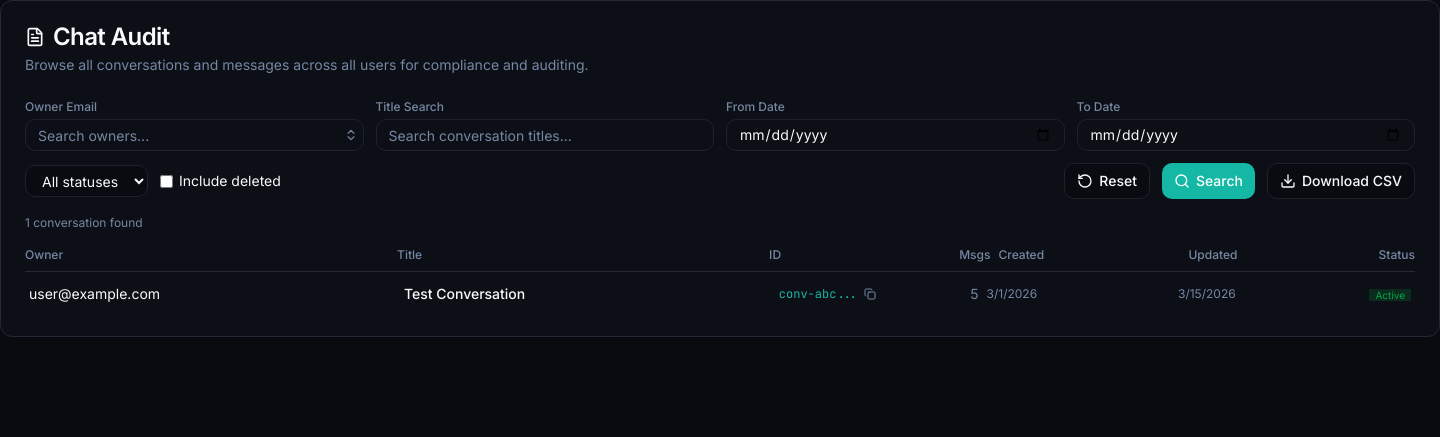
Test: AuditLogsTab › Reset clears results and shows empty state
This screenshot has width=1440, height=437.
Check: the text "Test Conversation" is shown, box [404,285,525,302]
Click the button "Reset". click: [1107, 181]
box: [1064,163,1150,199]
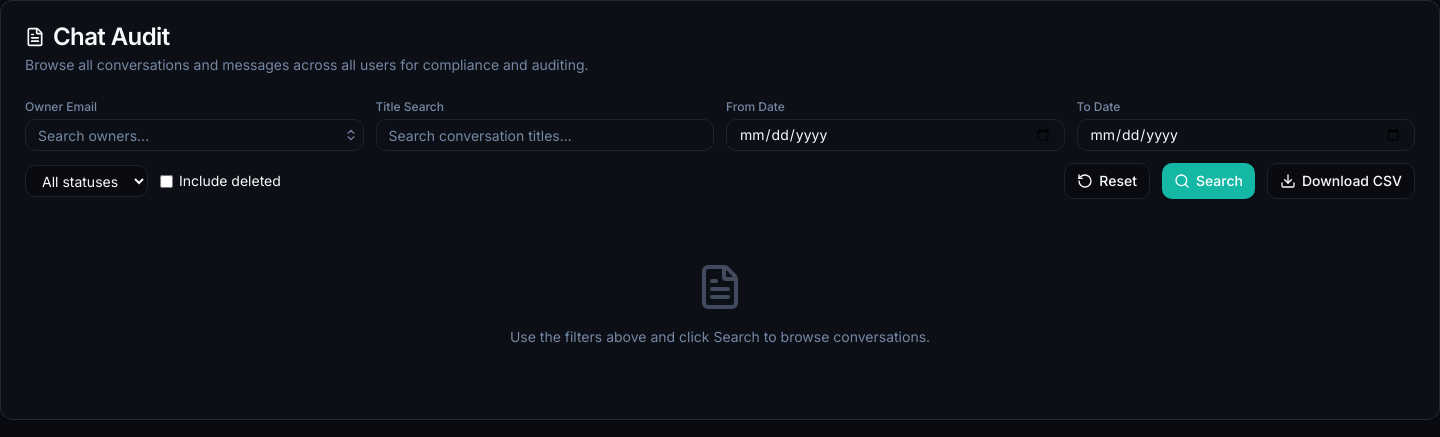
Check: the text "Test Conversation" is gone
Check: the text "Use the filters above and click Search" is shown, box [510,328,930,345]
